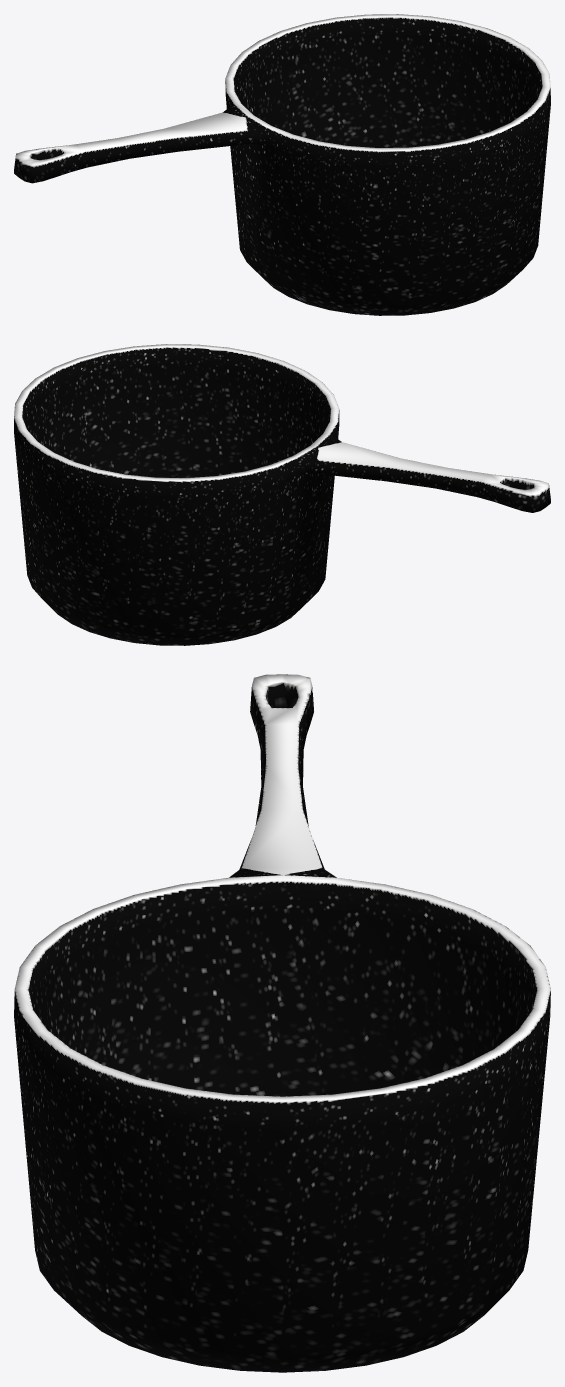
Rendered from pan.glb.
3 renders of one model, top to bottom at view 1: azimuth 30°, elevation 25°; view 2: azimuth 150°, elevation 25°; view 3: azimuth 270°, elevation 25°, orthographic. The views are drawn at different scales.
Parts seen in each view (by area): view 1: pan; view 2: pan; view 3: pan.
Part boxes in pixels (x1,y1,x2,y2): pan: (14,14,550,315); pan: (14,344,550,645); pan: (14,674,550,1372).
Size of the model in its own units: 5.5 by 1.95 by 3.04.
1 material, 1 textured.
